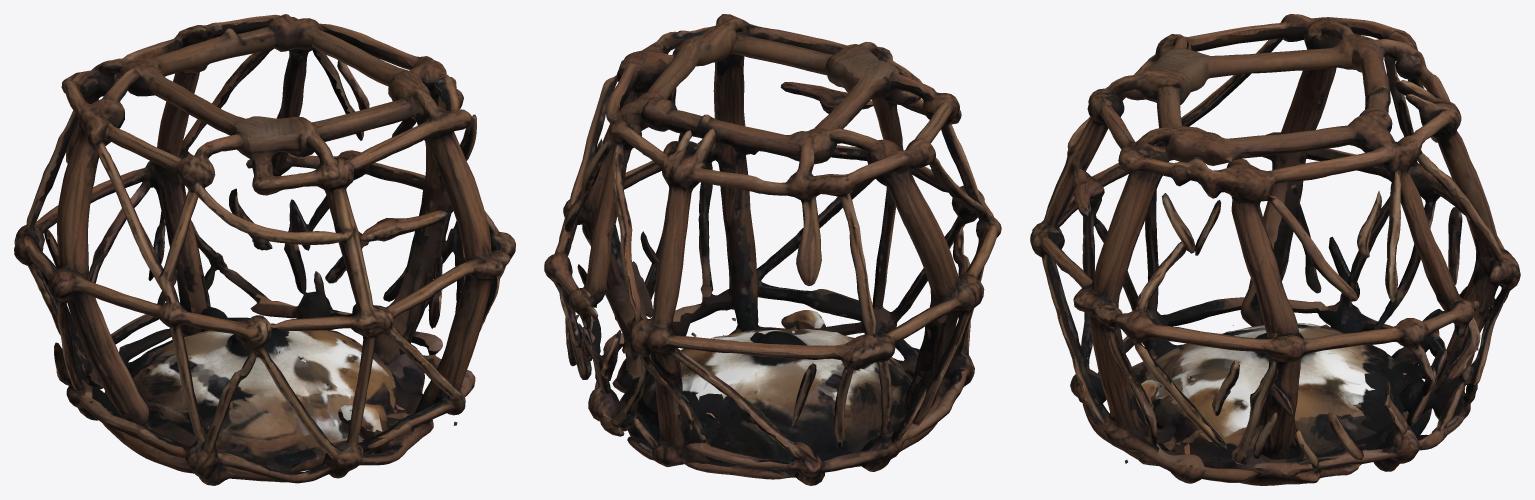
Rendered from catalog-build-58.glb.
3 renders of one model, left to right at view 1: azimuth 30°, elevation 25°; view 2: azimuth 150°, elevation 25°; view 3: azimuth 270°, elevation 25°, orthographic. The views are drawn at different scales.
Visible parts, largest first — view 1: tmpibml5a6_.ply; view 2: tmpibml5a6_.ply; view 3: tmpibml5a6_.ply.
Boxes of the visible parts, box(x1,y1,x2,y2) form: tmpibml5a6_.ply: box(14, 14, 515, 485); tmpibml5a6_.ply: box(544, 14, 1001, 485); tmpibml5a6_.ply: box(1030, 14, 1520, 485).
Bounding box in the file's own units: 1.94 × 1.53 × 1.96.
1 material, 1 textured.
